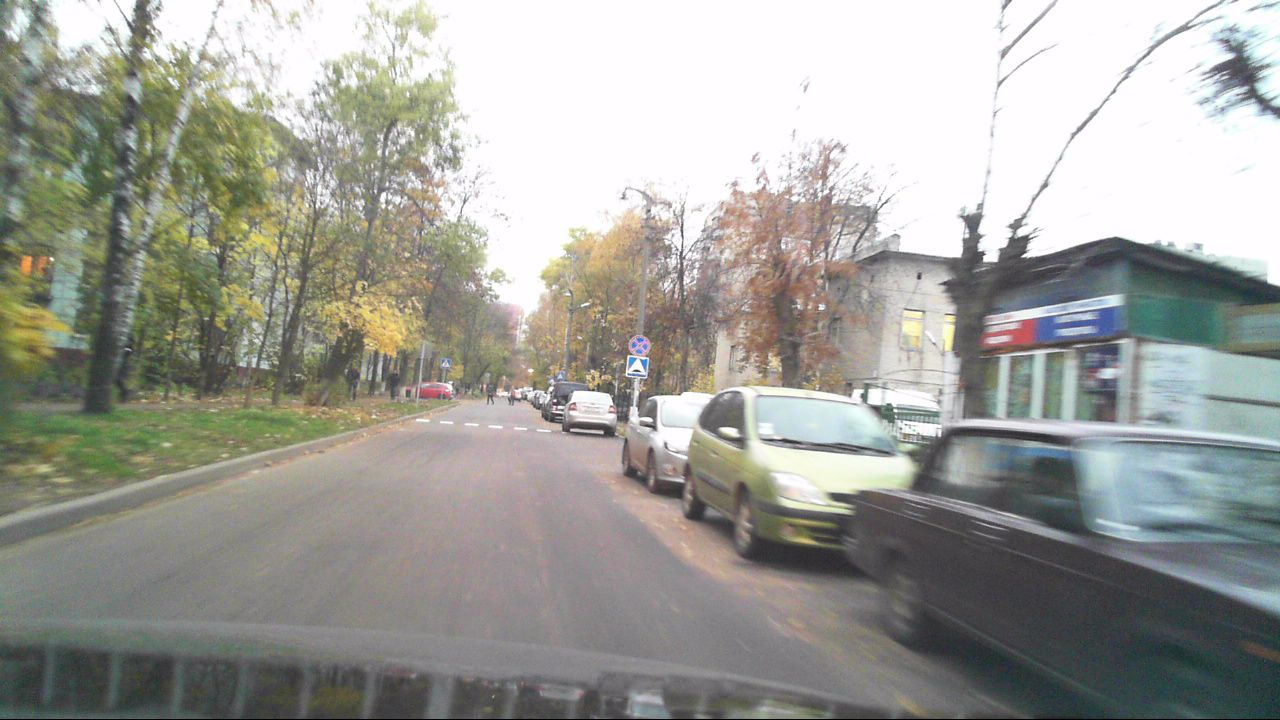No Parking: (628, 335, 651, 355)
